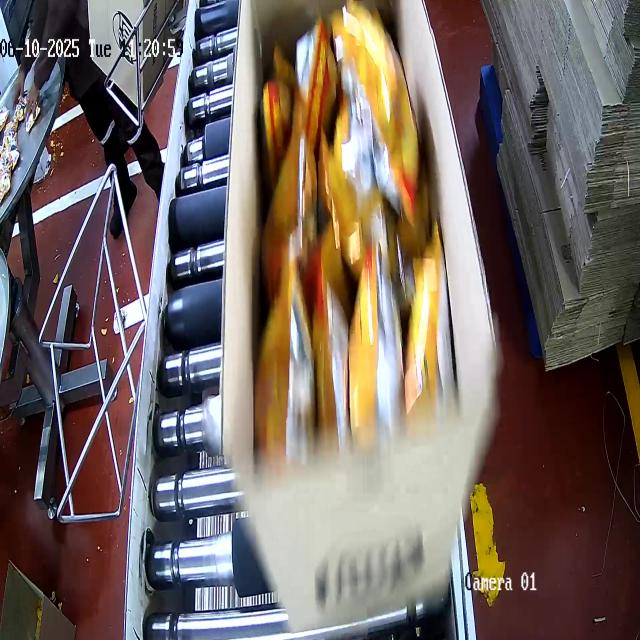FRENCH_CHEESE: (246, 15, 443, 450)
